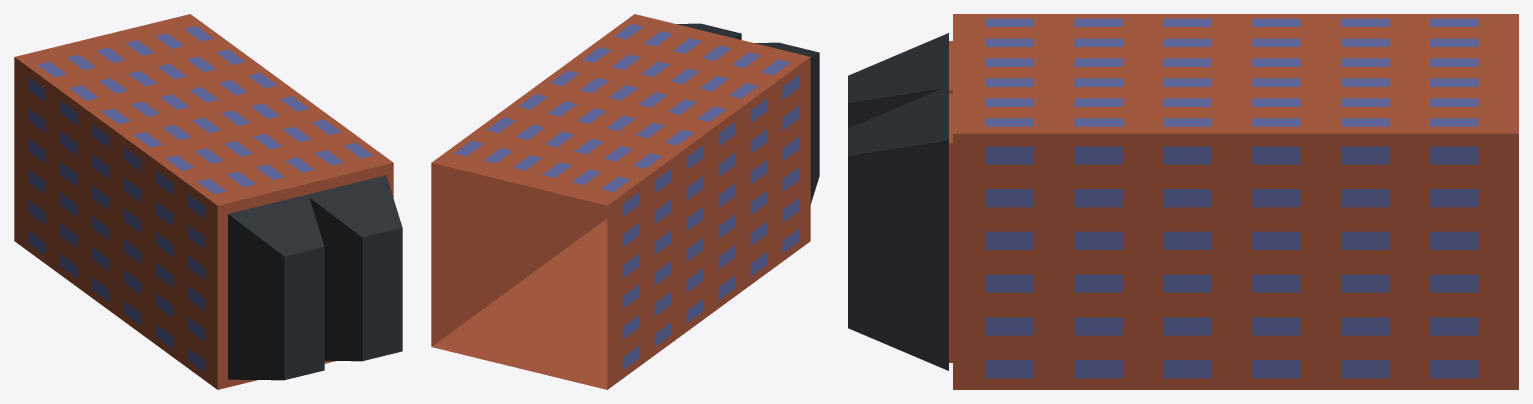
File: construction_2.glb
3 views of the same model, side by side, from view 1: azimuth 30°, elevation 25°; view 2: azimuth 150°, elevation 25°; view 3: azimuth 270°, elevation 25° (orthographic). The views are drawn at different scales.
Visible parts, largest first — view 1: c2; view 2: c2; view 3: c2.
Boxes of the visible parts, <box> form: c2: <box>14,14,402,389</box>; c2: <box>431,14,819,389</box>; c2: <box>848,14,1518,389</box>.
Bounding box in the file's own units: 14.12 × 14.12 × 33.2.
